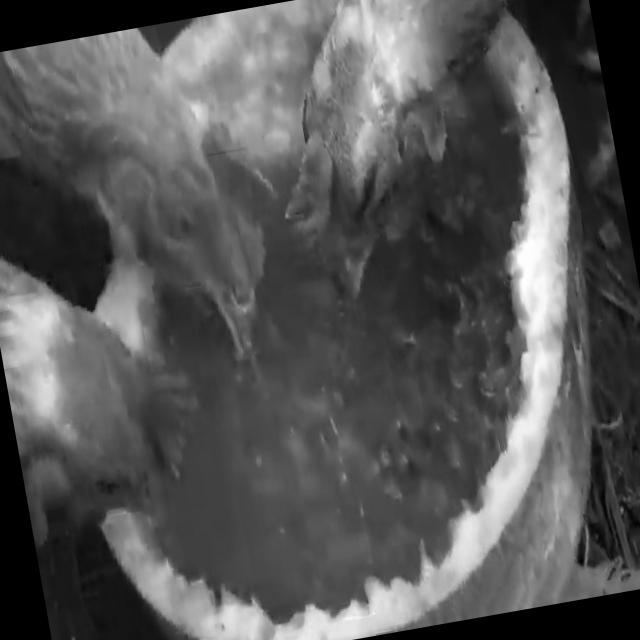feeding: (0, 13, 278, 403), (255, 0, 581, 297), (0, 272, 233, 587)
